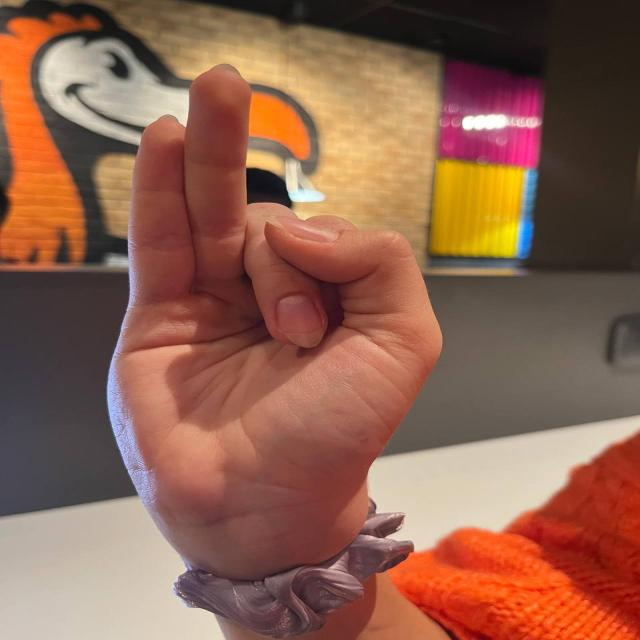i: (113, 61, 467, 492)
